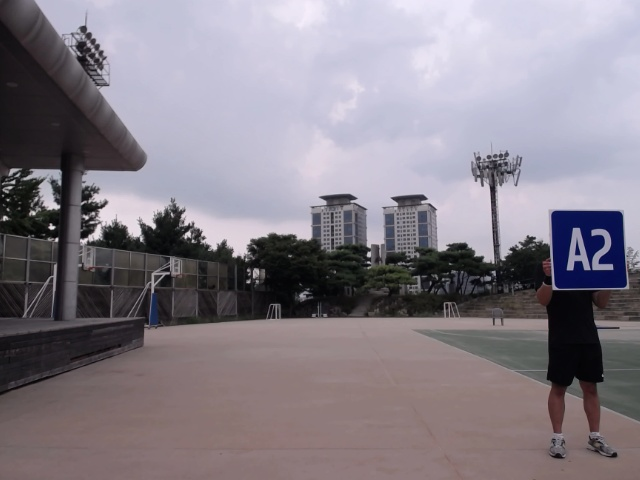delivery_a2: (551, 209, 628, 289)
